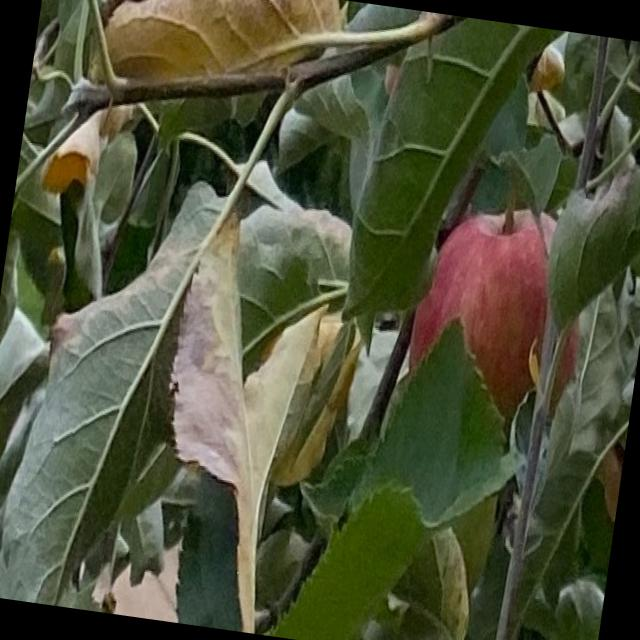Apples: (402, 195, 594, 427)
